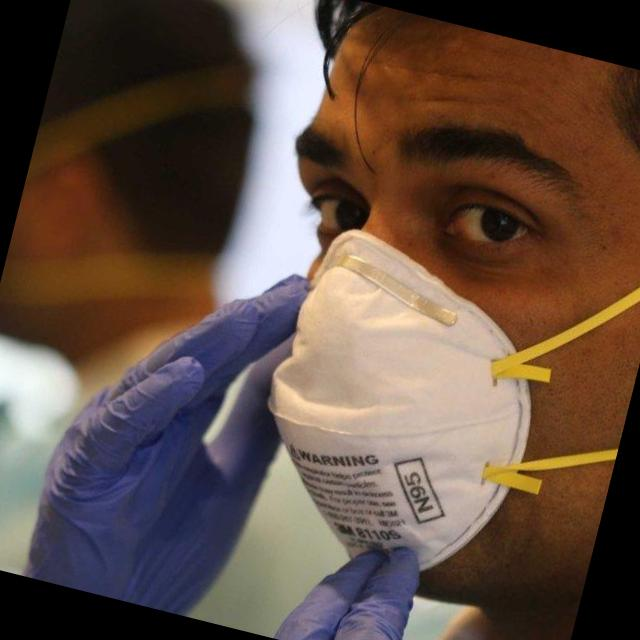Gloves: (7, 199, 322, 627), (272, 522, 543, 640)
